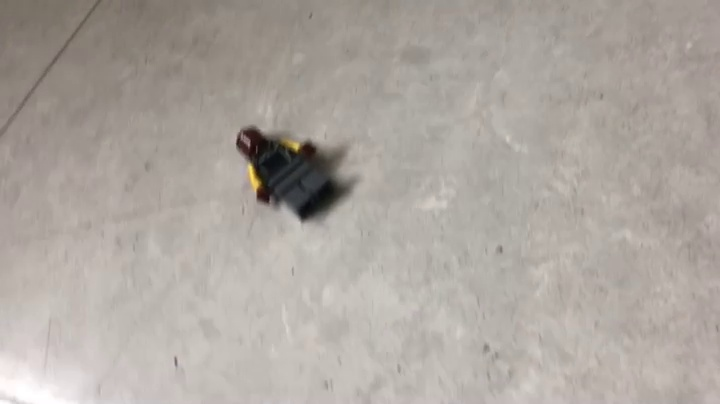people: (234, 125, 342, 222)
